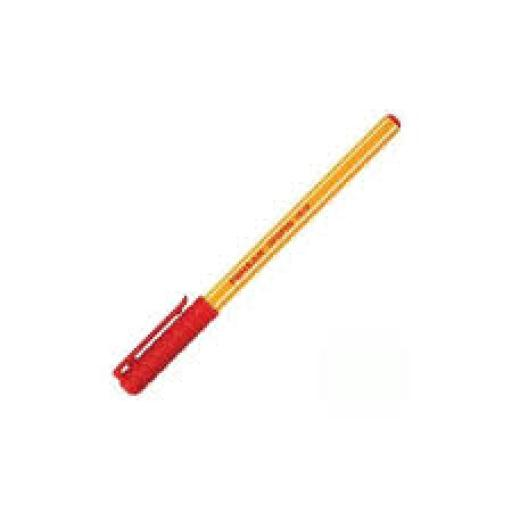tukenmez-kalem: (110, 91, 508, 406)
